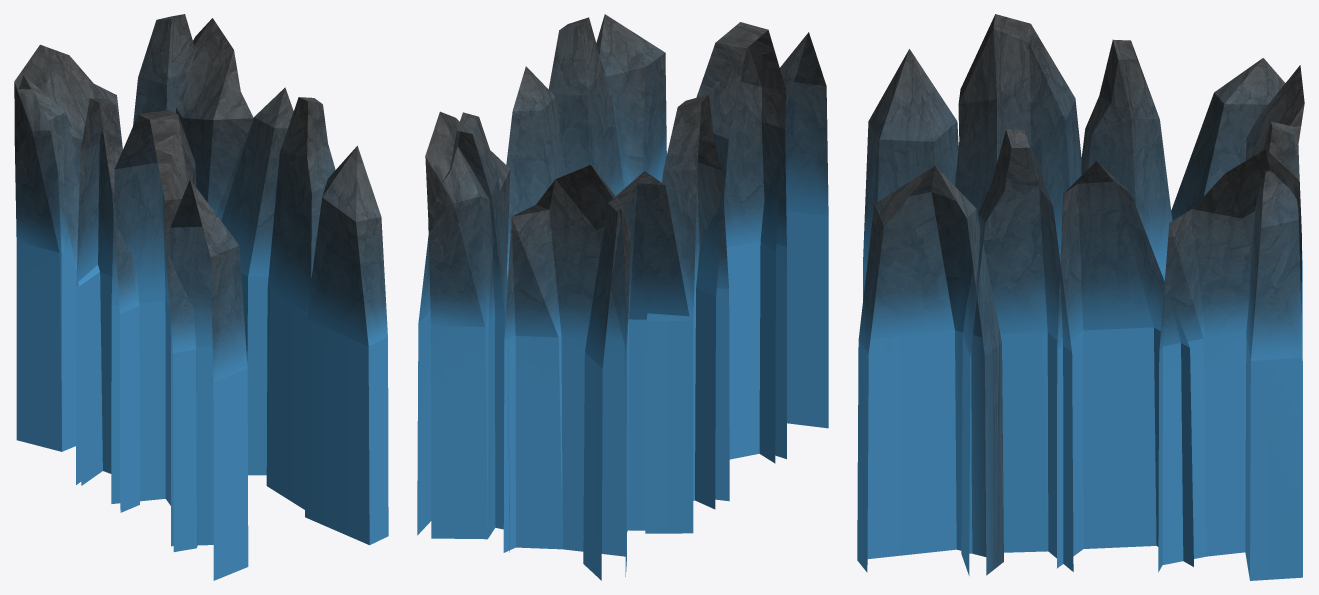
Rendered from Mountain_02.FBX.
3 views of the same model, side by side, from view 1: azimuth 30°, elevation 25°; view 2: azimuth 150°, elevation 25°; view 3: azimuth 270°, elevation 25° (orthographic). The views are drawn at different scales.
Parts seen in each view (by area): view 1: Mountain_02; view 2: Mountain_02; view 3: Mountain_02.
Part boxes in pixels (x1,y1,x2,y2): Mountain_02: (14,14,388,580); Mountain_02: (417,14,828,580); Mountain_02: (857,14,1304,580).
Bounding box in the file's own units: 12288 × 24429 × 21463.
